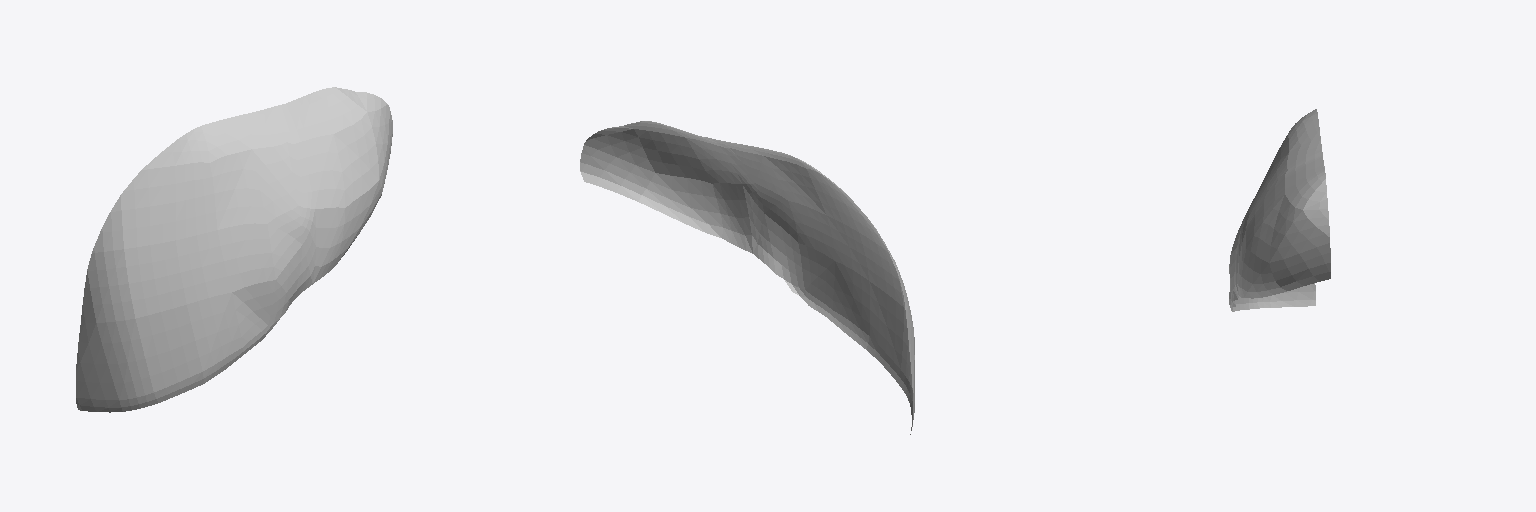
Rendered from baseLiverGen_frontHalf_obs_627points.obj.
3 renders of one model, left to right at view 1: azimuth 30°, elevation 25°; view 2: azimuth 150°, elevation 25°; view 3: azimuth 270°, elevation 25°, orthographic.
Visible parts, largest first — view 1: Plane; view 2: Plane; view 3: Plane.
Part boxes in pixels (bbox=[...]): Plane: bbox=[76, 87, 392, 412]; Plane: bbox=[580, 121, 914, 434]; Plane: bbox=[1229, 109, 1330, 311].
Size of the model in its own units: 0.1967 by 0.1484 by 0.0536.